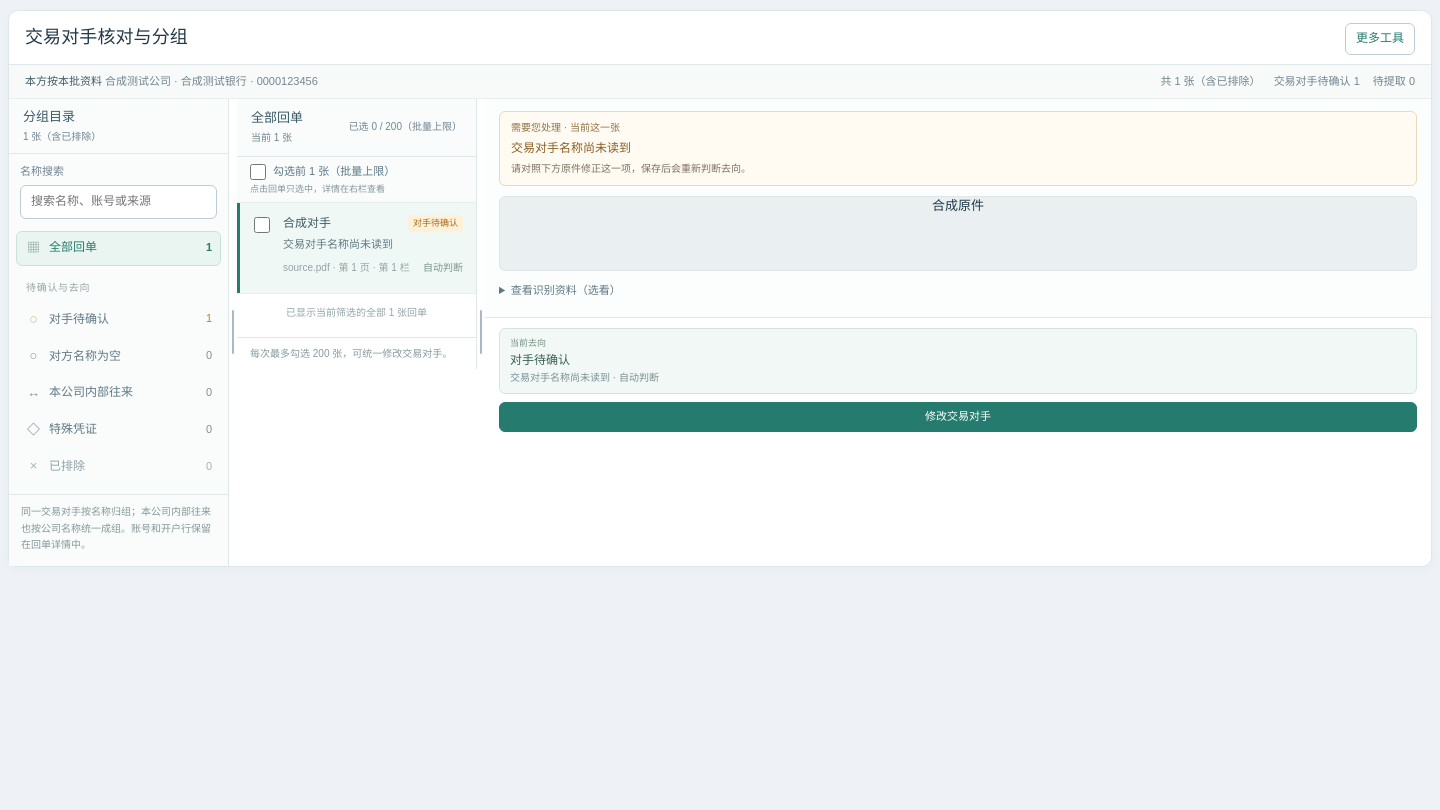
Test: 交易对手分组真实操作回归 › 取消底部修改后不提交并恢复普通入口，次级工具名称准确
This screenshot has width=1440, height=810.
What coordinates should you click on to do the following:
click the button "修改交易对手"
I would click on:
 (958, 417)
Its box is [499, 402, 1417, 432].
(page scrolled)
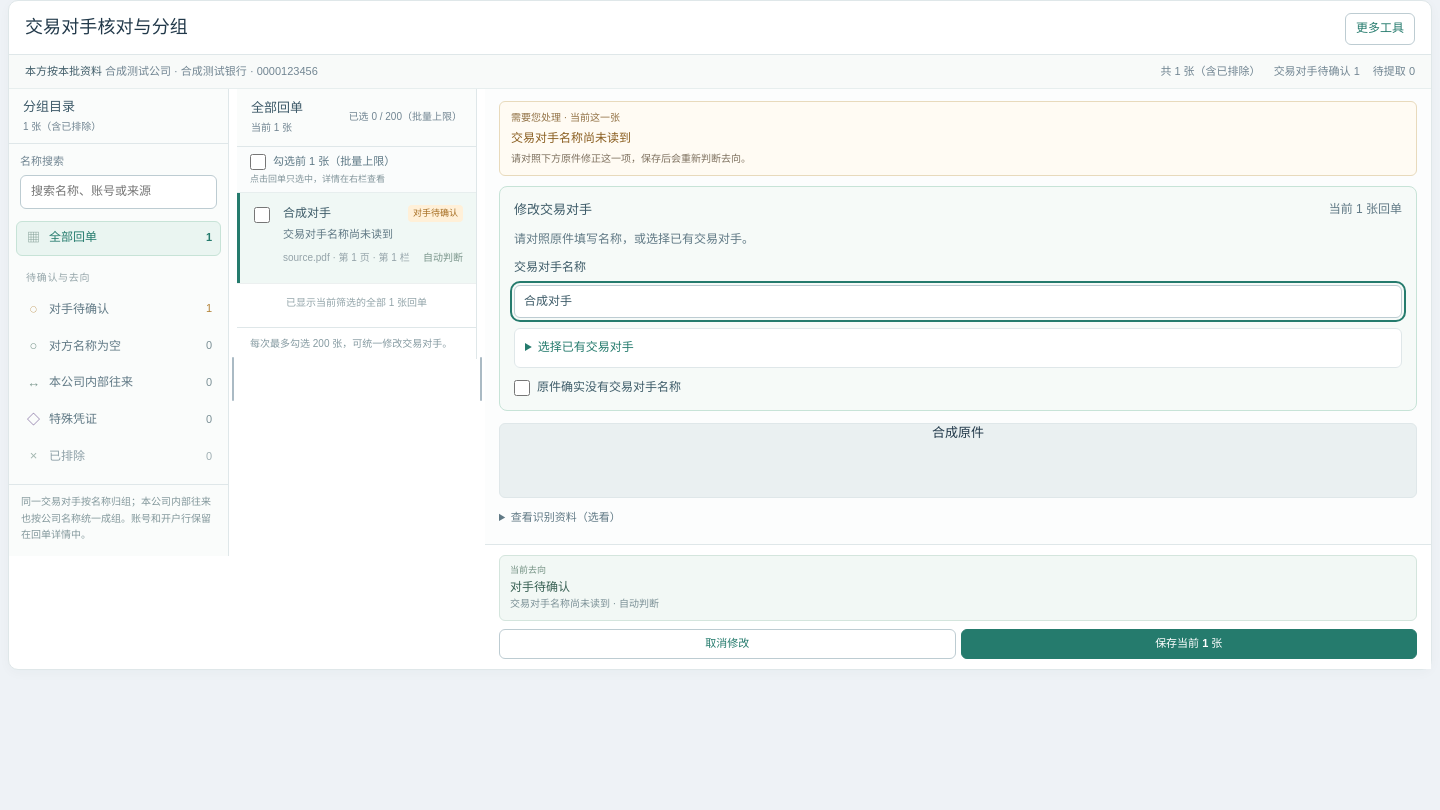
What coordinates should you click on to do the following:
click the button "取消修改"
I would click on:
 (727, 644)
Its box is [499, 629, 956, 659].
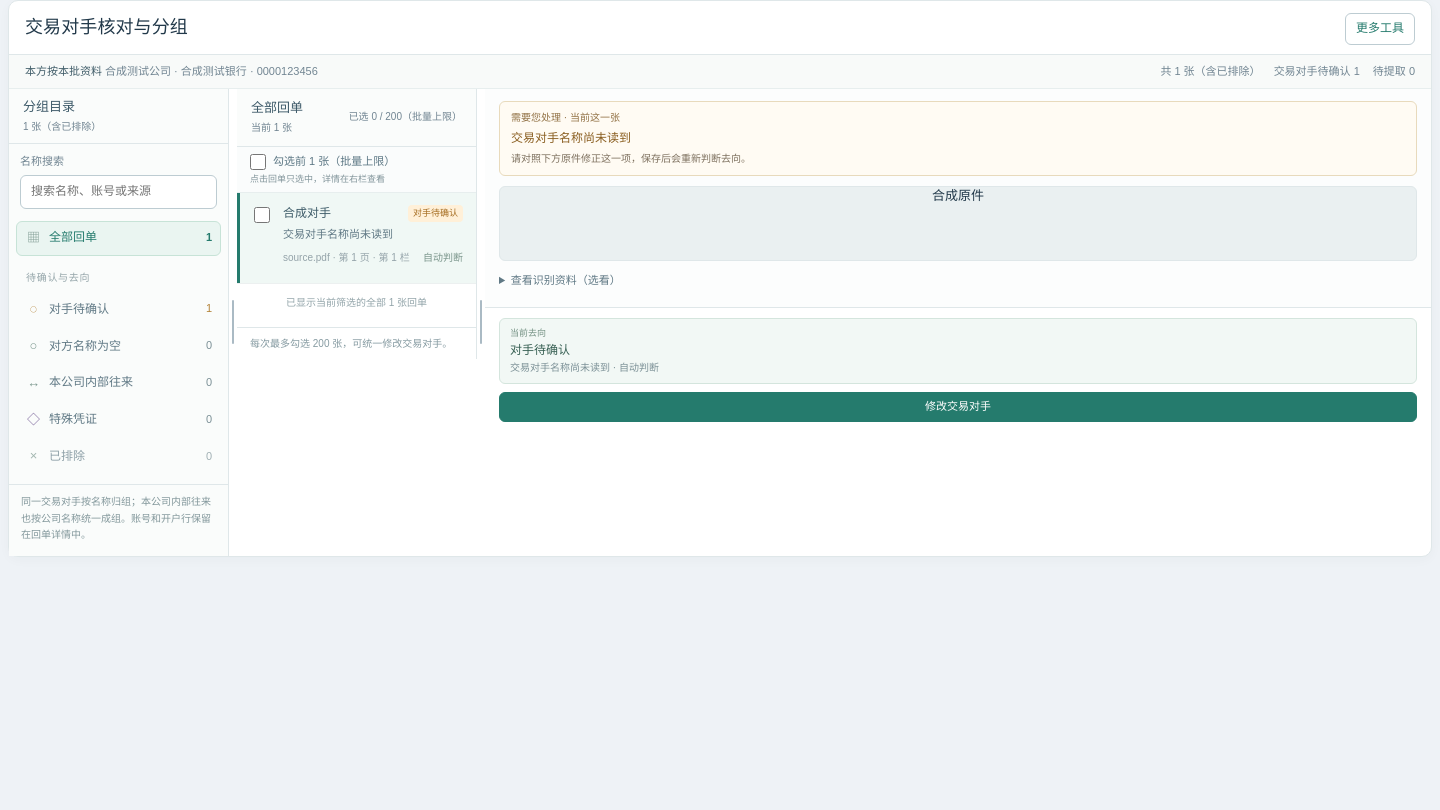
Now the button "修改交易对手" is shown, box [499, 392, 1417, 422]
What coordinates should you click on to do the following:
click the button "更多工具"
I would click on:
 (1380, 29)
Its box is [1345, 13, 1415, 45].
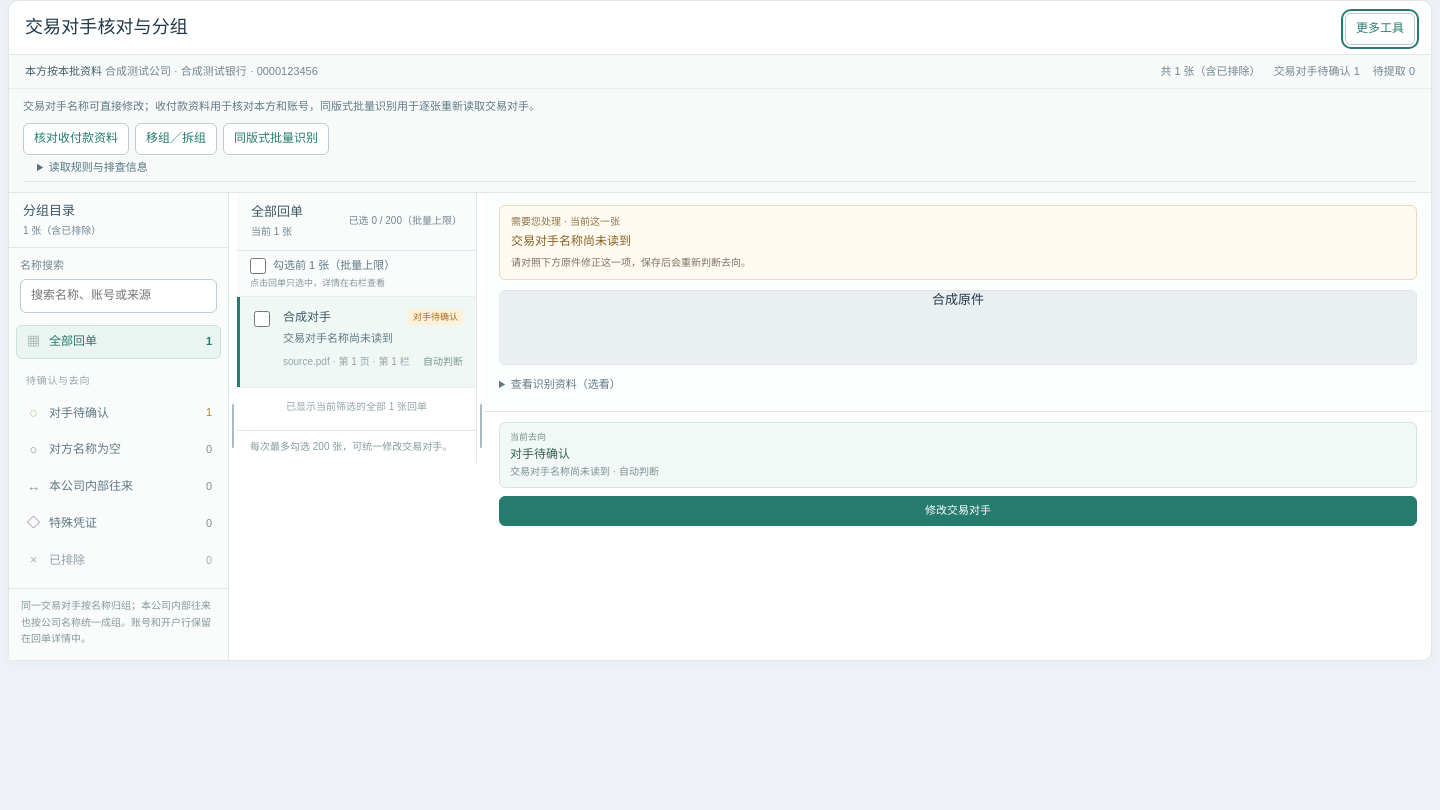
Now the button "核对收付款资料" is shown, box [23, 123, 129, 155]
Now the button "同版式批量识别" is shown, box [223, 123, 329, 155]
